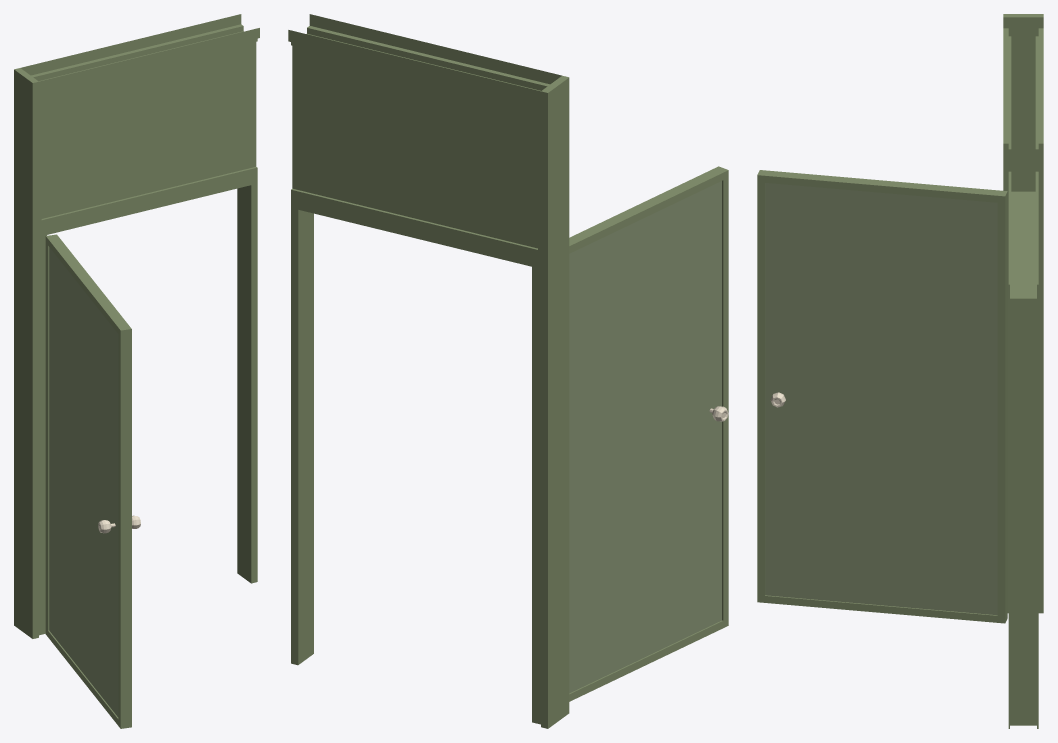
File: puerta_simple_abierta.dae
3 views of the same model, side by side, from view 1: azimuth 30°, elevation 25°; view 2: azimuth 150°, elevation 25°; view 3: azimuth 270°, elevation 25° (orthographic). The views are drawn at different scales.
Parts seen in each view (by area): view 1: Puerta_doble_abierta.002; view 2: Puerta_doble_abierta.002; view 3: Puerta_doble_abierta.002.
Boxes of the visible parts, x1=… form: Puerta_doble_abierta.002: x1=14, y1=14, x2=259, y2=728; Puerta_doble_abierta.002: x1=288, y1=14, x2=728, y2=728; Puerta_doble_abierta.002: x1=757, y1=14, x2=1043, y2=728.
Size of the model in its own units: 1.19 by 1.05 by 2.41.
